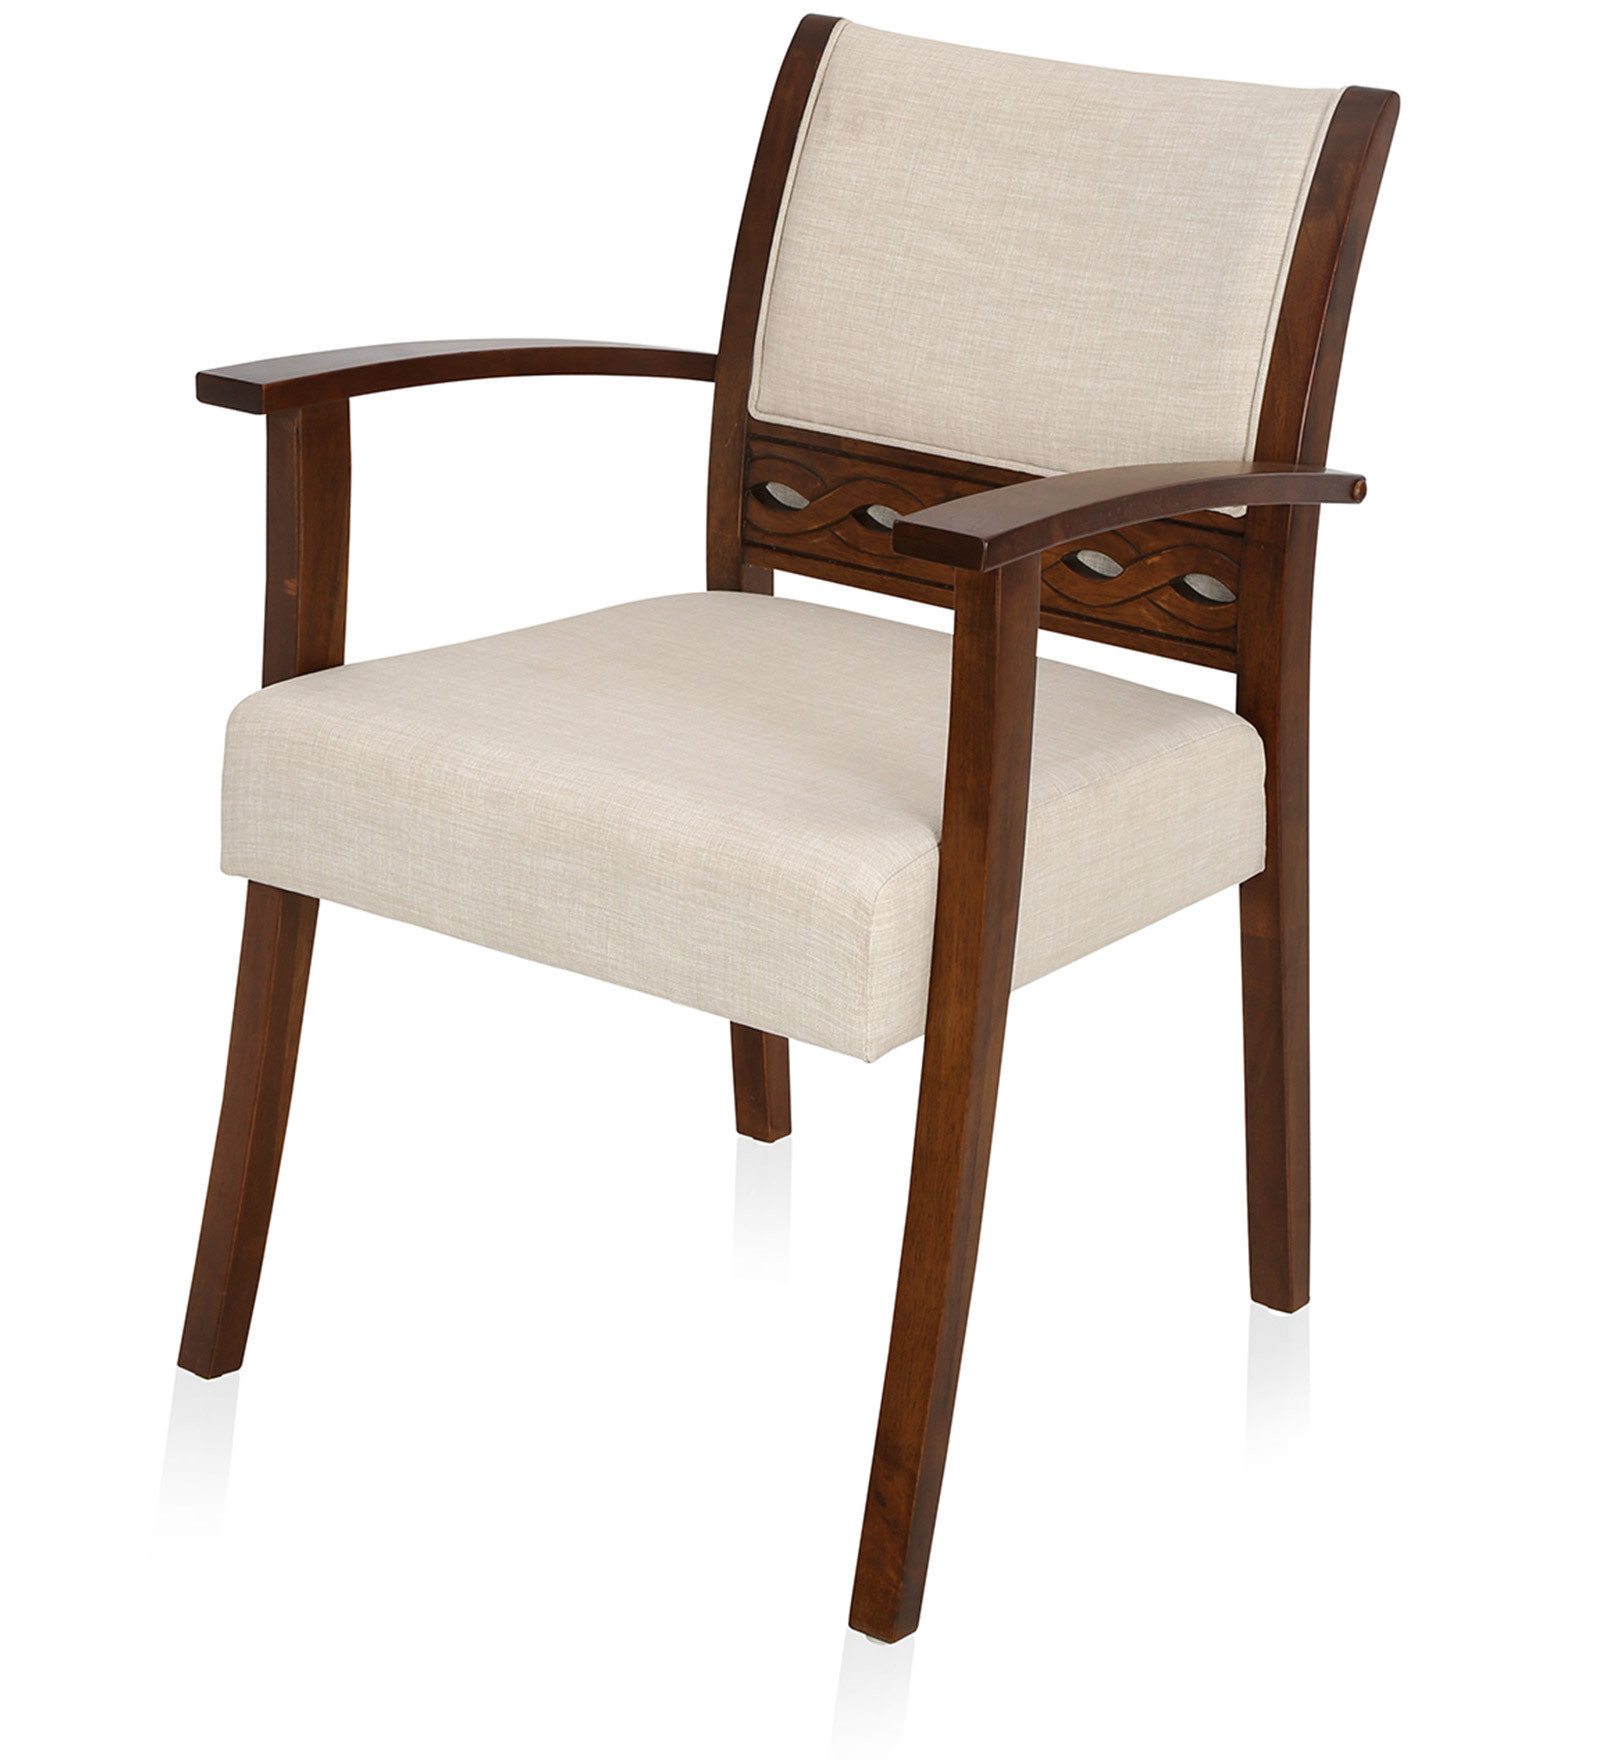Zinnia Arm Chair in Beige Colour by @ Home: (155, 37, 1353, 1650)
